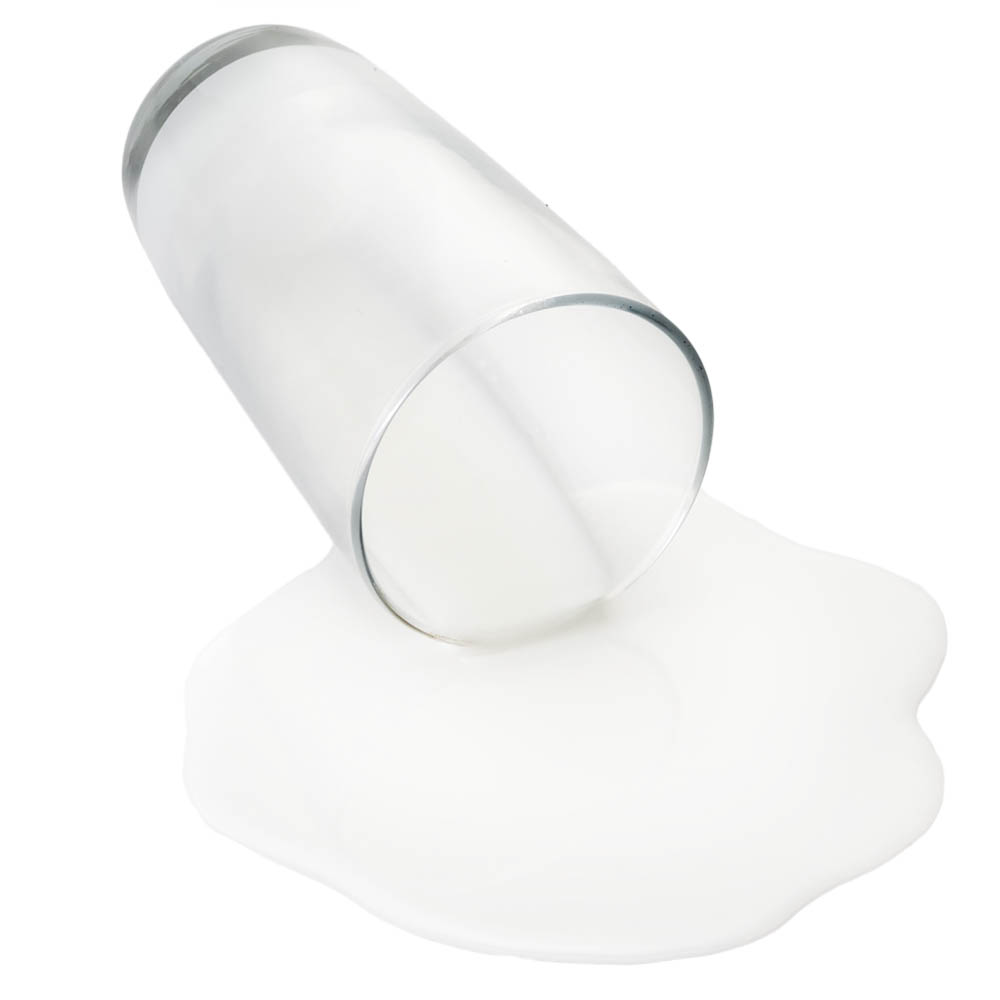glass of water: (257, 625, 895, 860)
